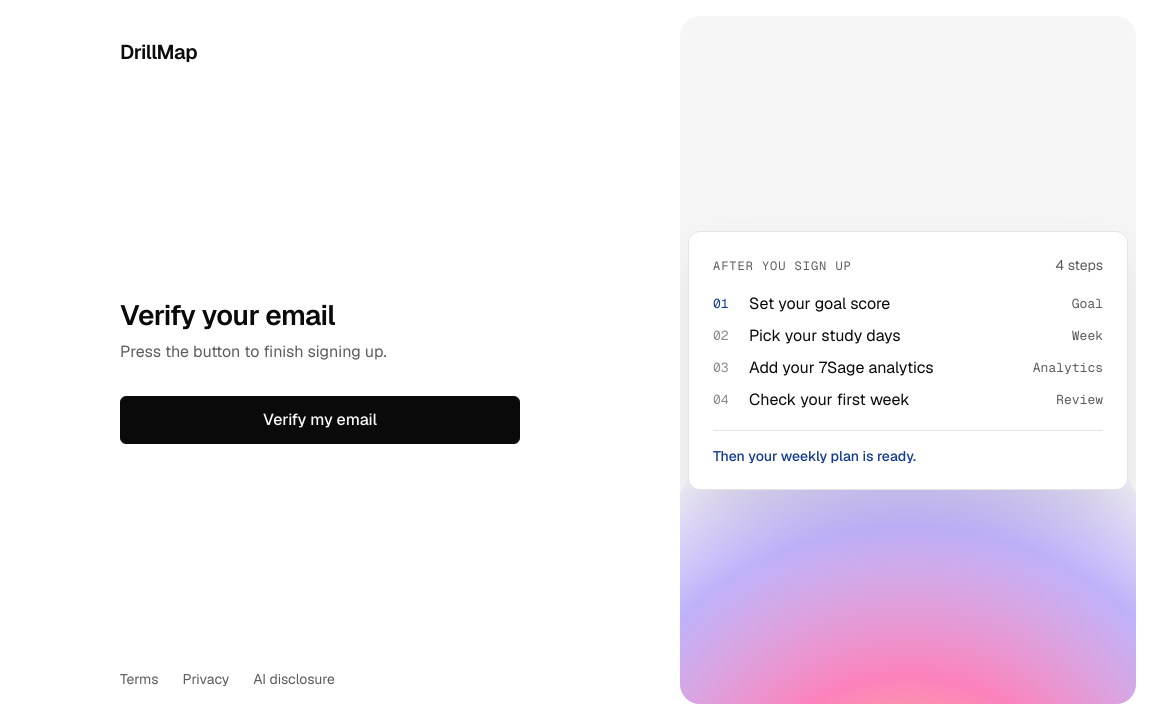
it: Verify my email › sends the link's token only when the button is pressed, and blocks a second press while it runs
Expected: the heading "Verify your email" is shown, [120,297,335,333]
Click the button "Verify my email".
click(320, 420)  # box [120,396,520,444]
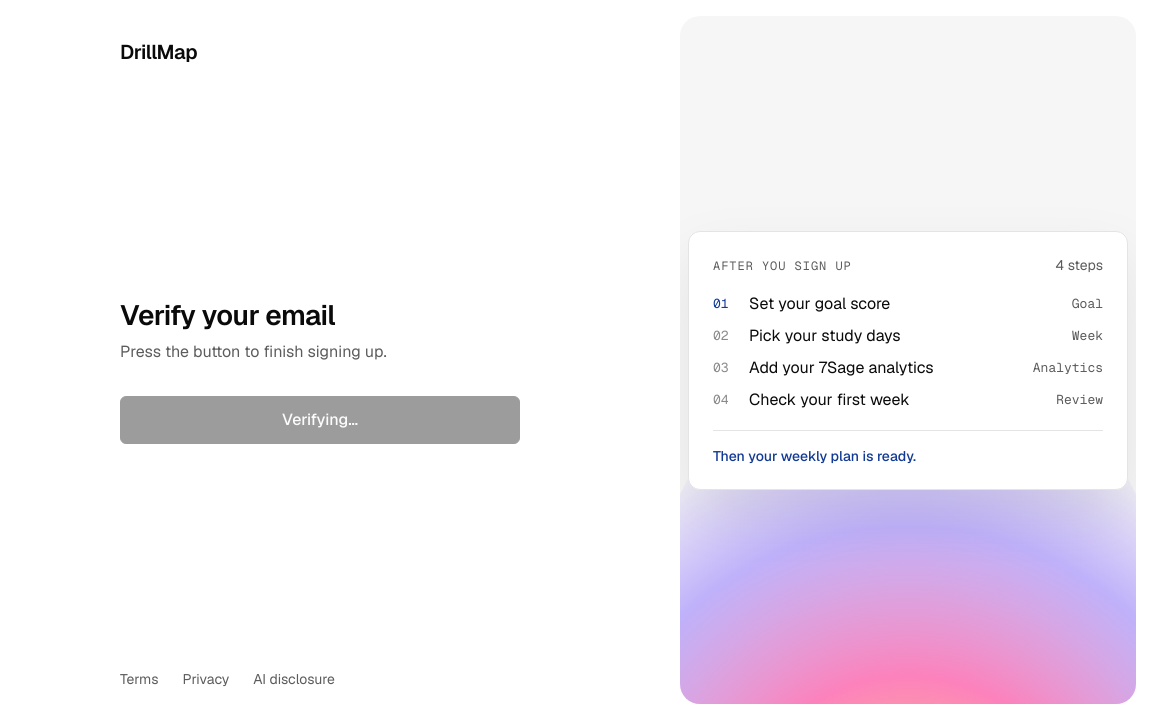
Expected: the button "Verifying…" is disabled
Click the button "Verifying…".
click(320, 420)  # box [120,396,520,444]
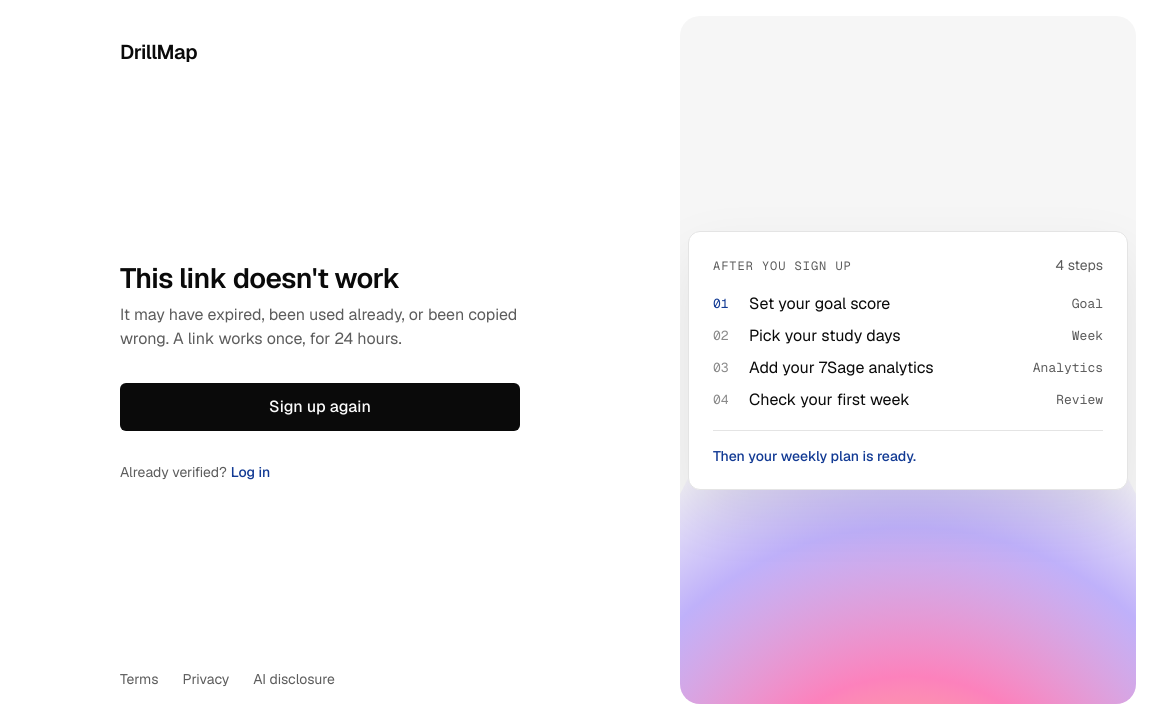
Expected: the heading "This link doesn't work" is shown, [120,260,400,296]
